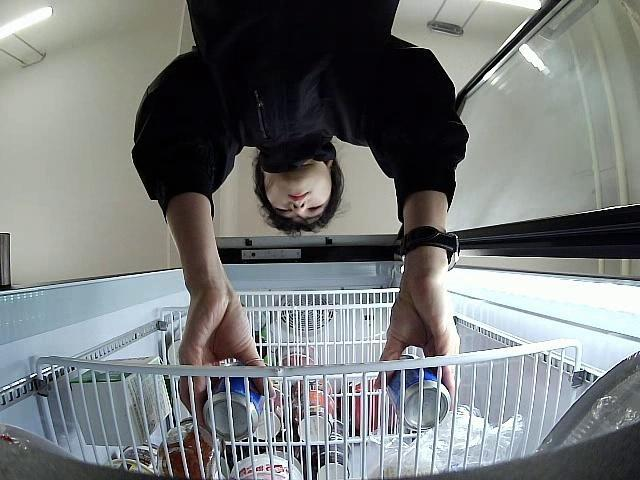15_letsbe: (383, 354, 452, 432), (202, 360, 264, 440)
